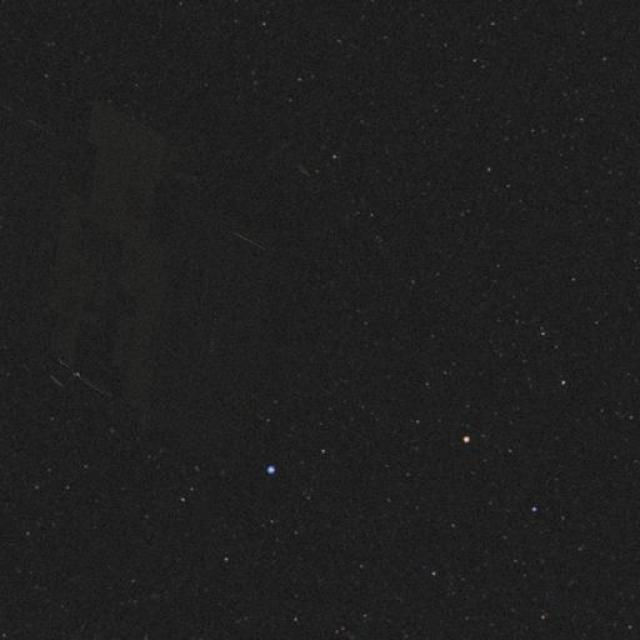proba_2: (9, 95, 238, 460)
